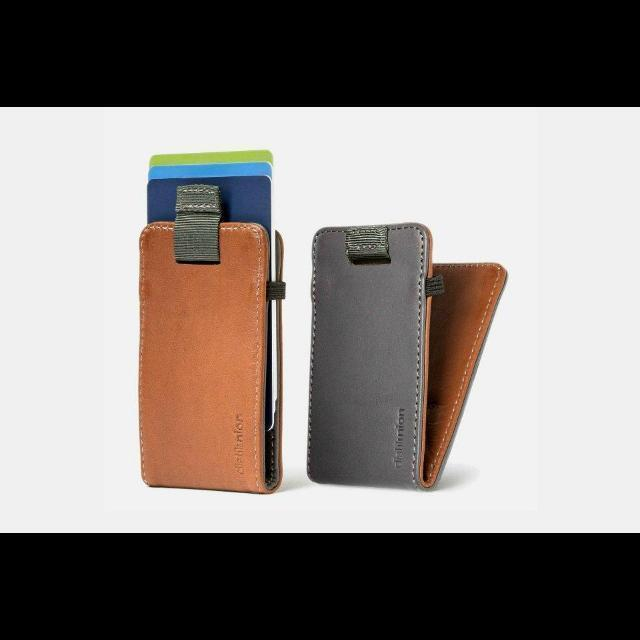wallet: (306, 217, 510, 493), (128, 214, 288, 496)
